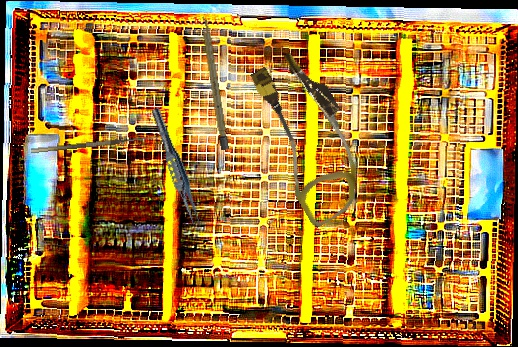Cannula: (231, 44, 387, 230)
Hook Surgical: (30, 128, 161, 154)
Scalpel Handle: (199, 15, 230, 151)
Tissue Forceps: (145, 106, 208, 231)
